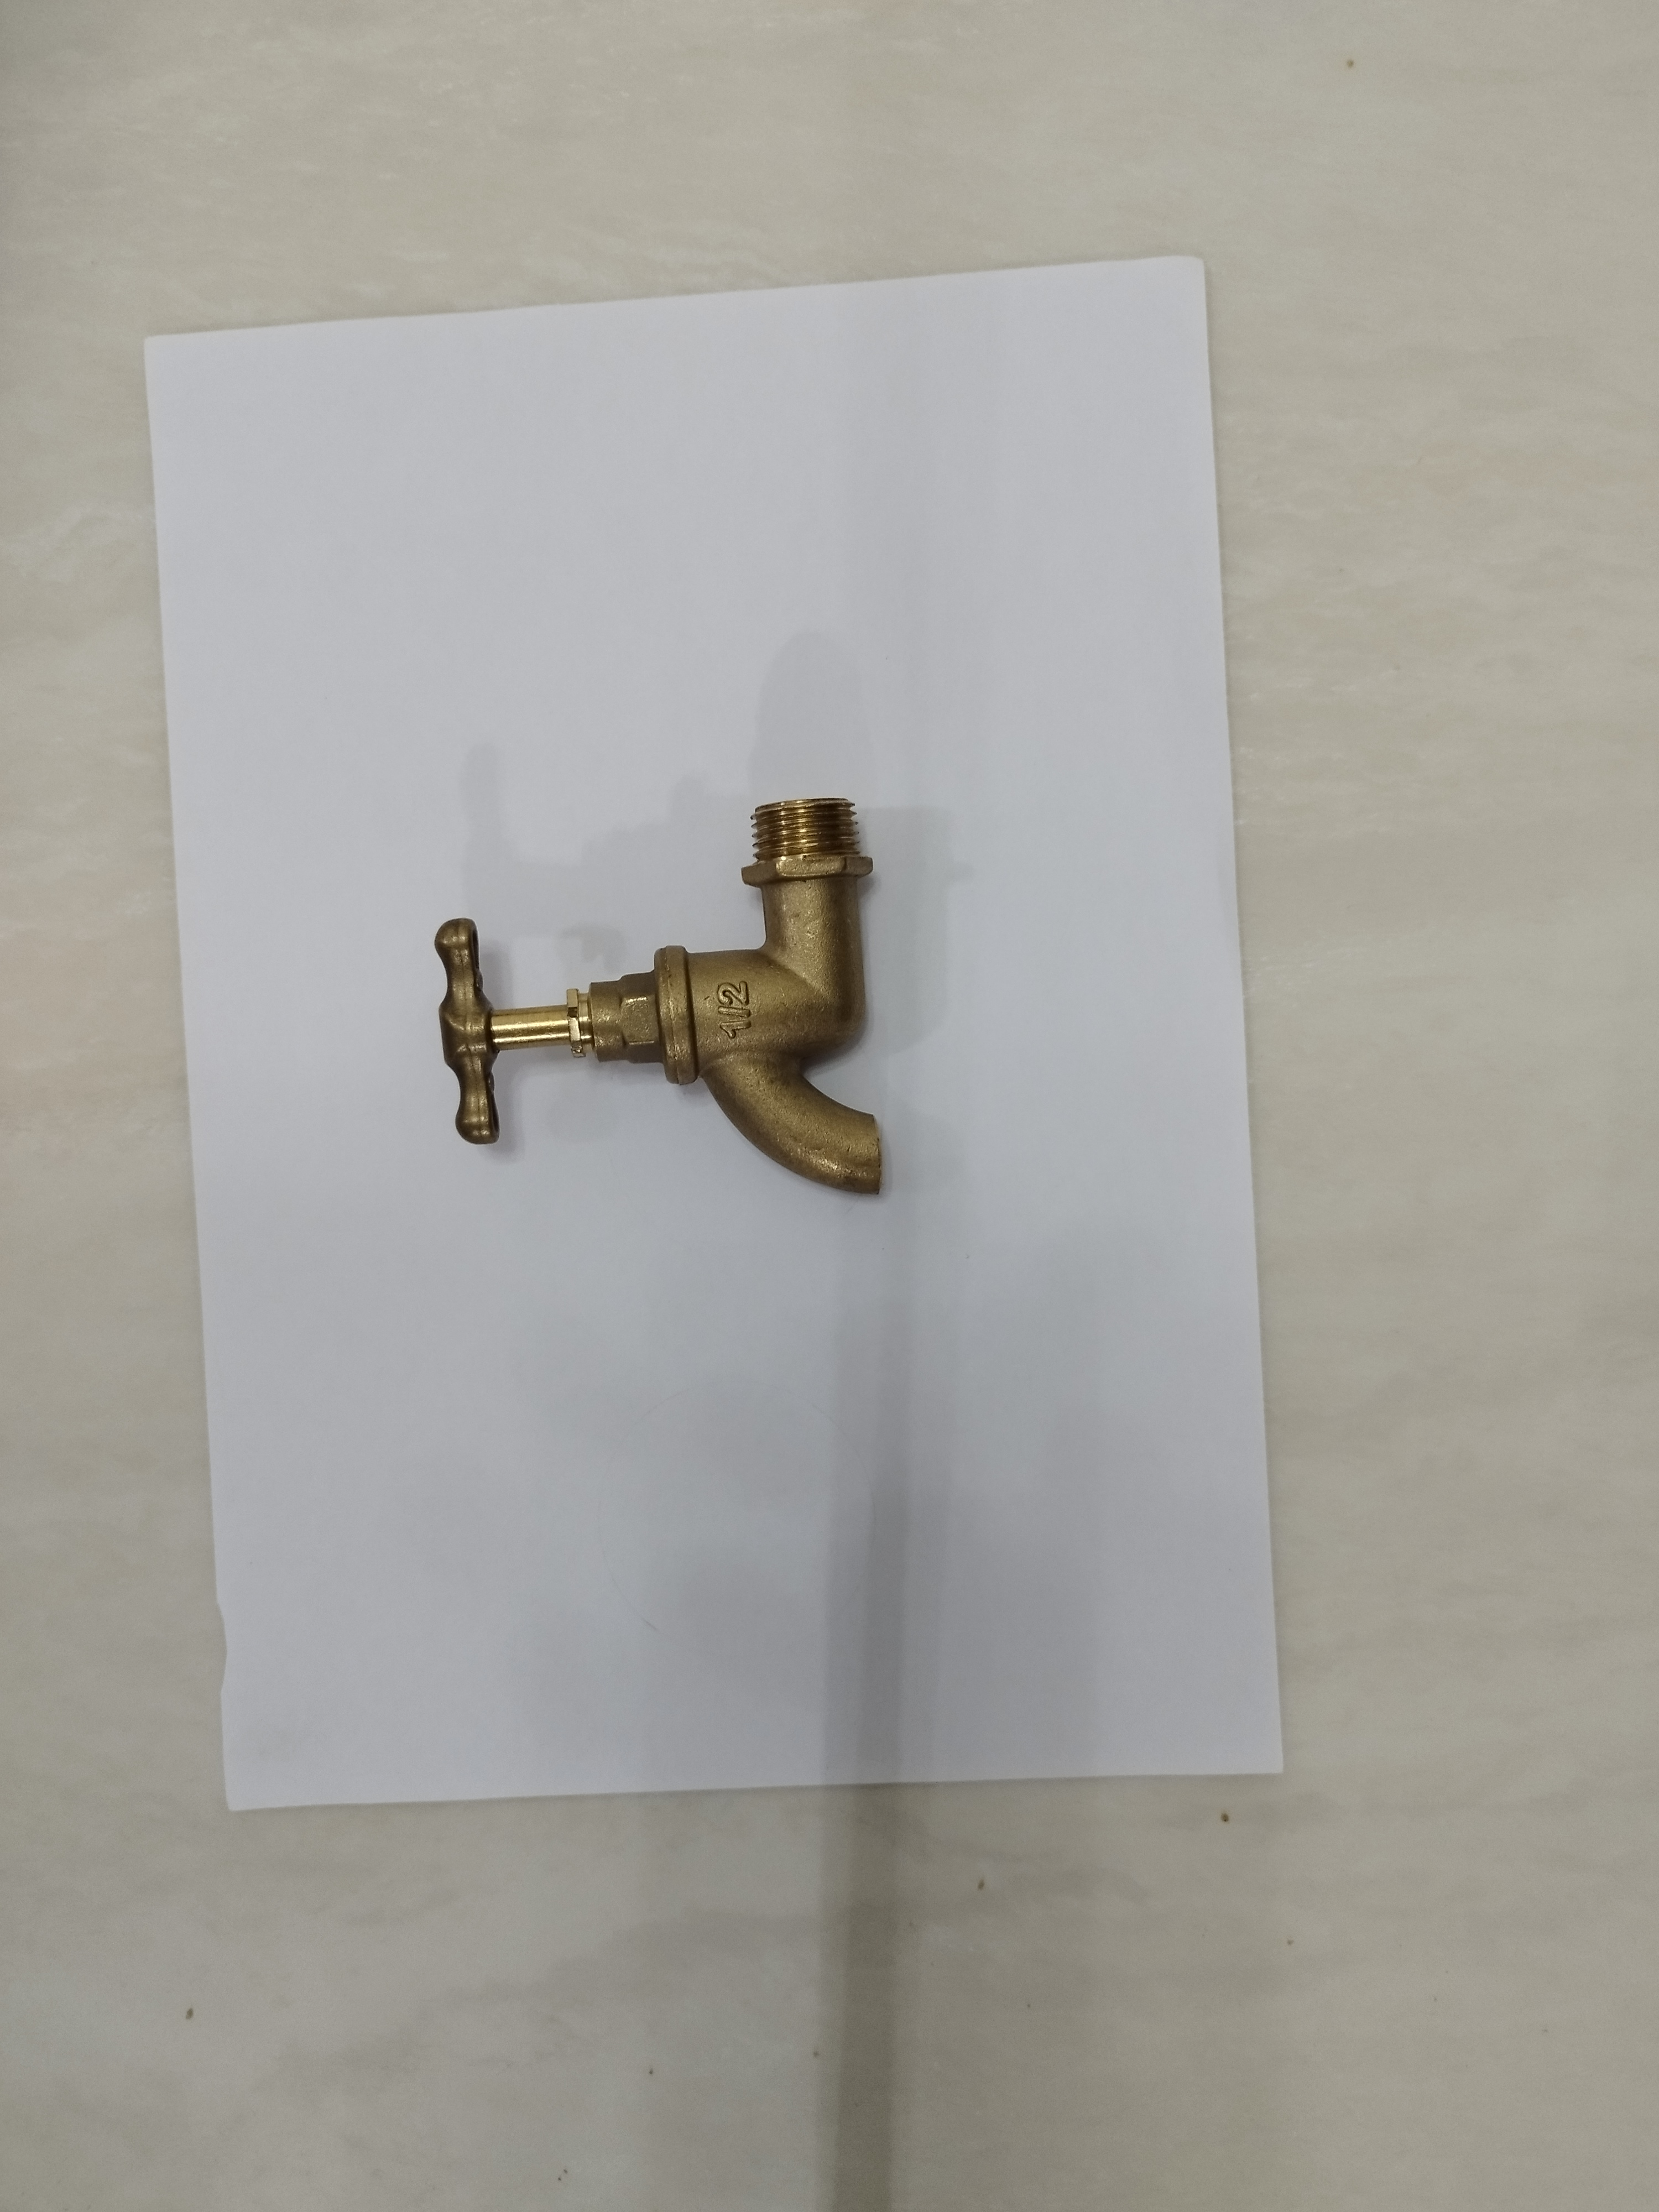brass_water_tap: (413, 787, 913, 1207)
